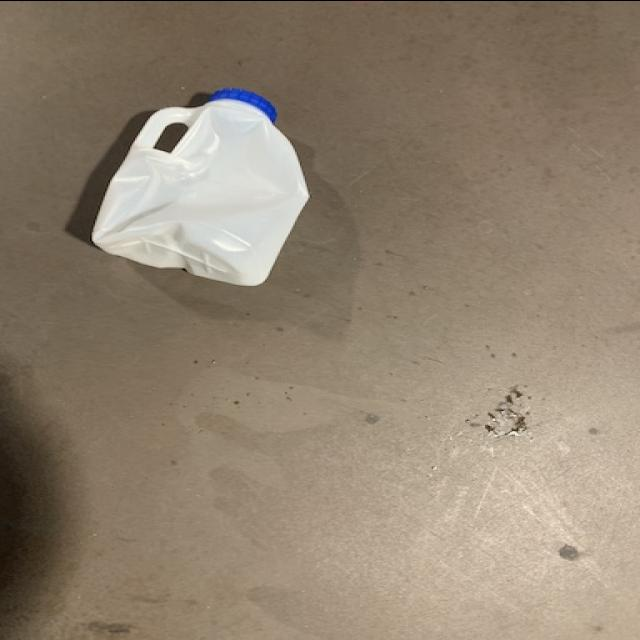litter: (89, 86, 318, 288)
